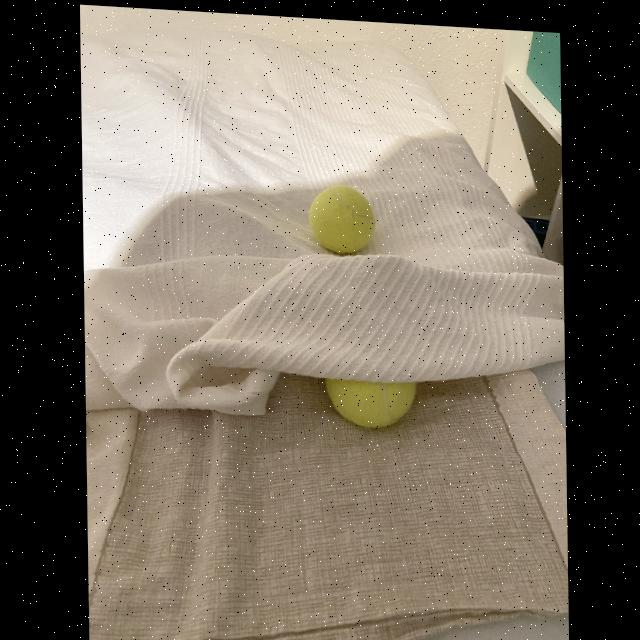Tennisball: (309, 185, 376, 254), (326, 379, 416, 428)
